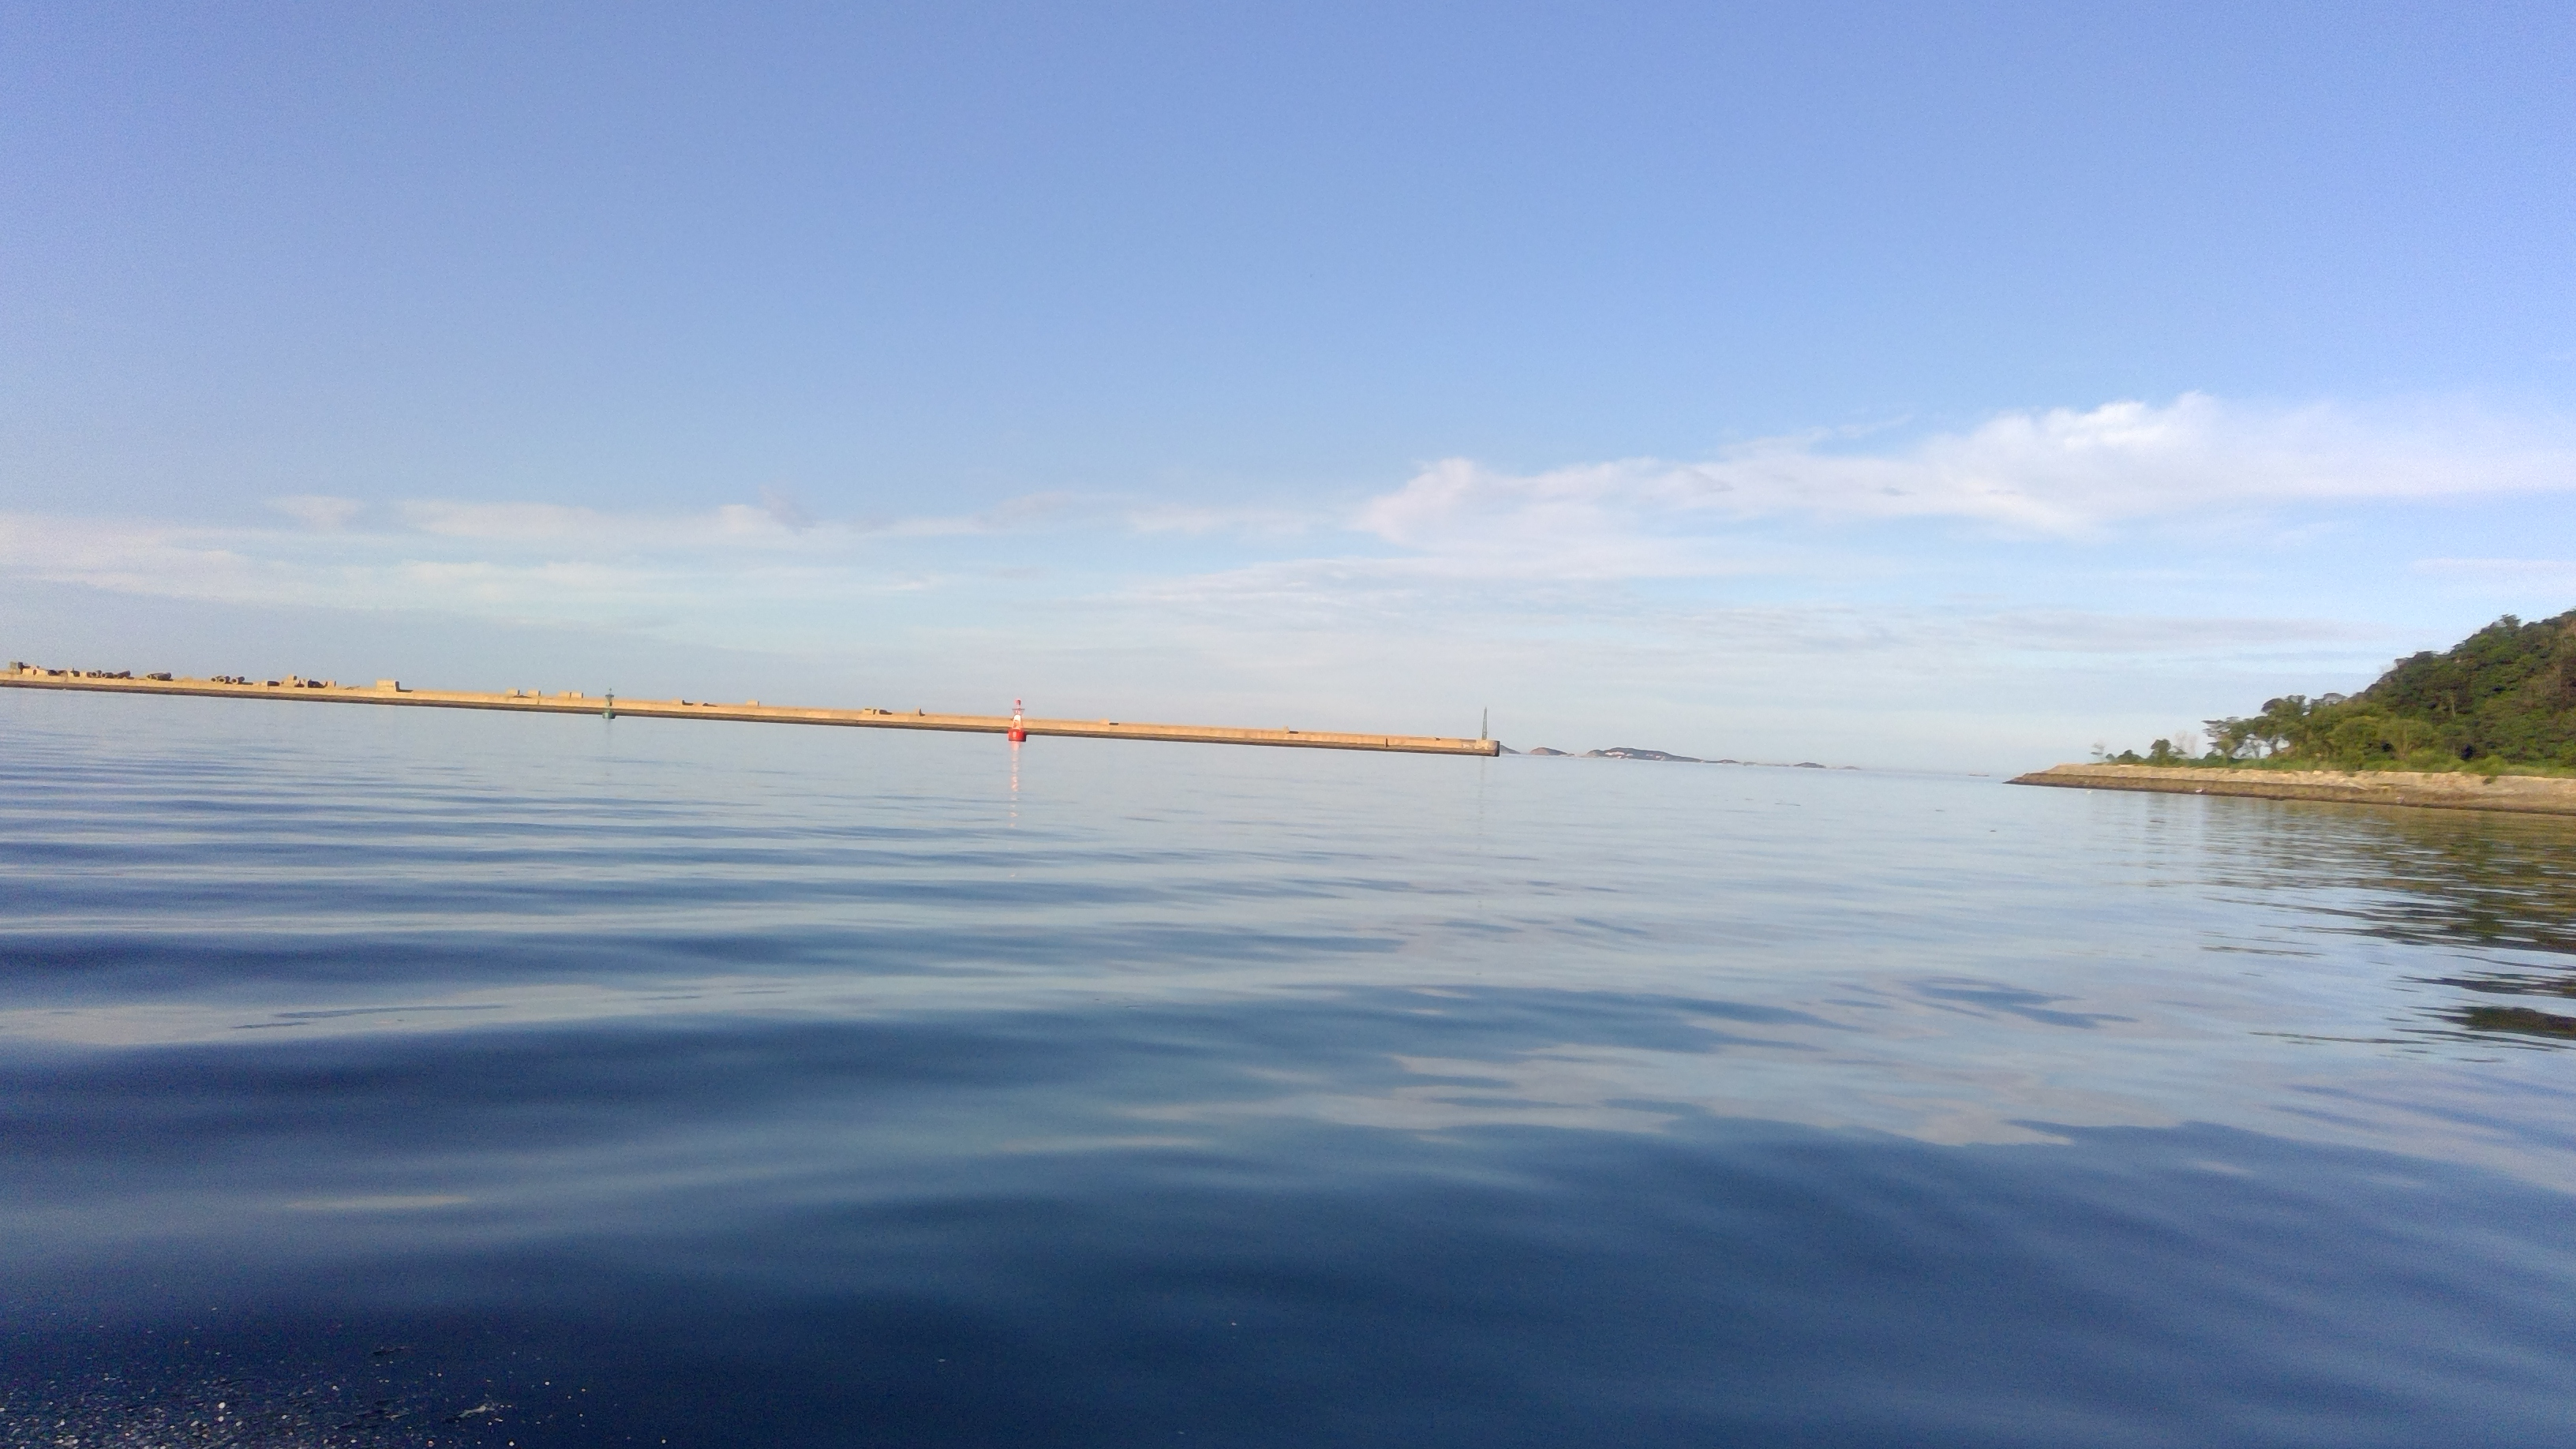platform: (5, 642, 1507, 764)
